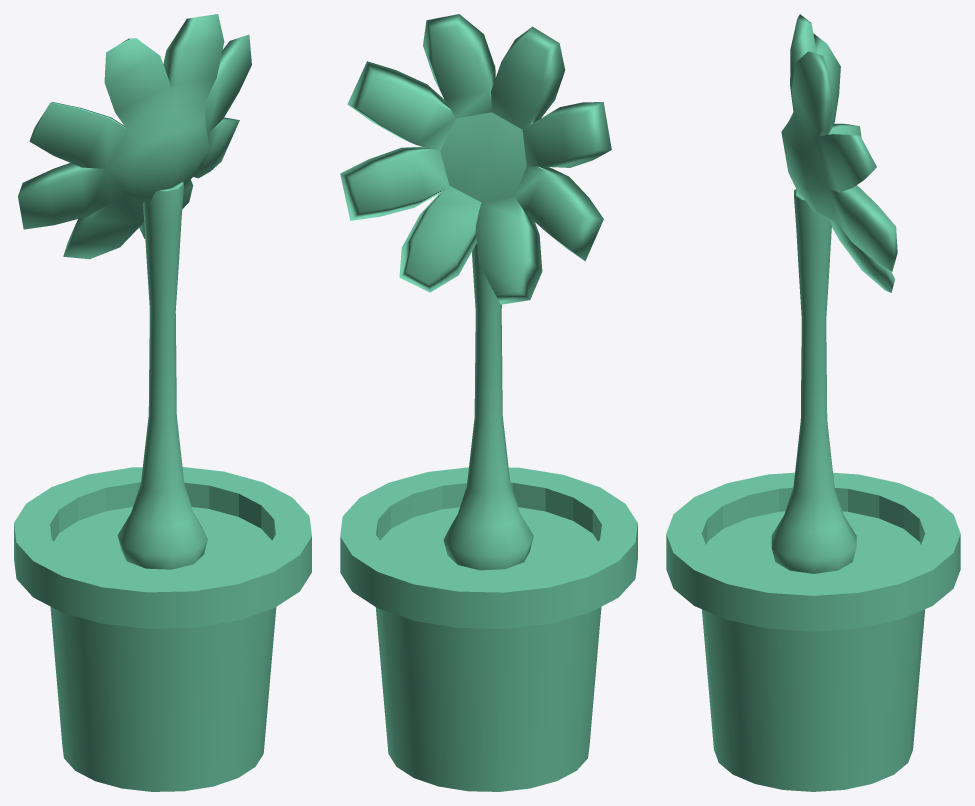
Rendered from Steve 1.fbx.
The picture shows the model from 3 angles, left to right: view 1: azimuth 30°, elevation 25°; view 2: azimuth 150°, elevation 25°; view 3: azimuth 270°, elevation 25°; orthographic projection.
Visible parts, largest first — view 1: Steve; view 2: Steve; view 3: Steve.
Part boxes in pixels (left/top/right/bottom): Steve: left=14, top=14, right=311, bottom=791; Steve: left=340, top=14, right=637, bottom=791; Steve: left=666, top=14, right=960, bottom=791.
Size of the model in its own units: 115 by 308 by 115.
